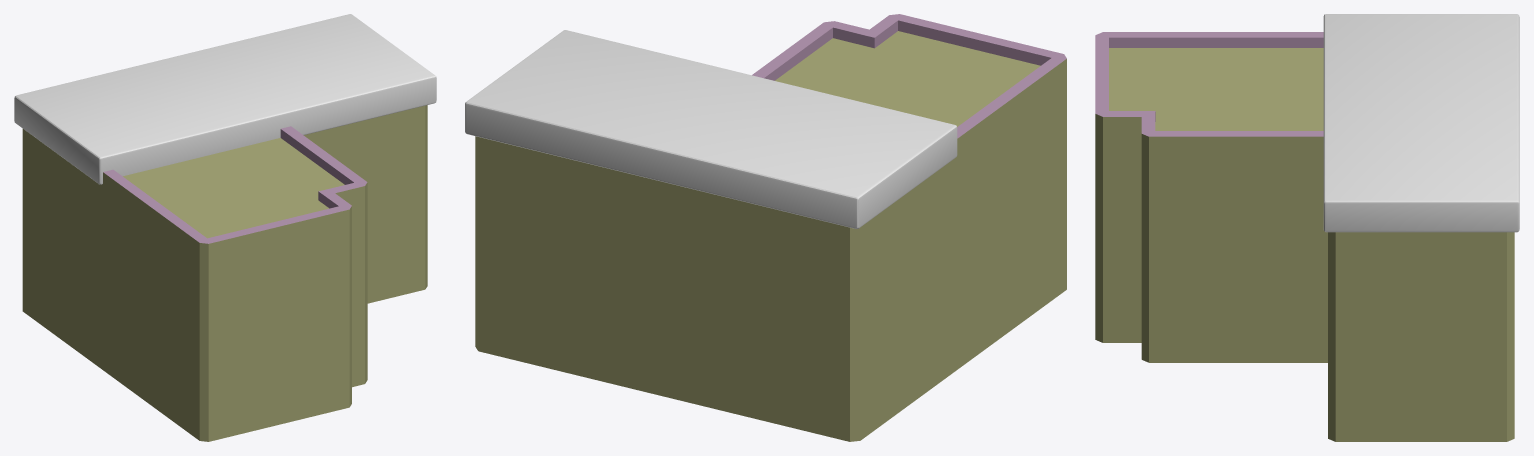
Rendered from Building_7.FBX.
The picture shows the model from 3 angles, left to right: view 1: azimuth 30°, elevation 25°; view 2: azimuth 150°, elevation 25°; view 3: azimuth 270°, elevation 25°; orthographic projection. The views are drawn at different scales.
Parts seen in each view (by area): view 1: Box001, Box002; view 2: Box001, Box002; view 3: Box001, Box002.
Boxes of the visible parts, x1,y1,x2,y2 form: Box001: (22,105,427,441); Box002: (14,14,436,184); Box001: (475,14,1066,441); Box002: (465,30,957,228); Box001: (1095,32,1514,441); Box002: (1323,14,1519,232).
Bounding box in the file's own units: 562 × 339 × 536.
